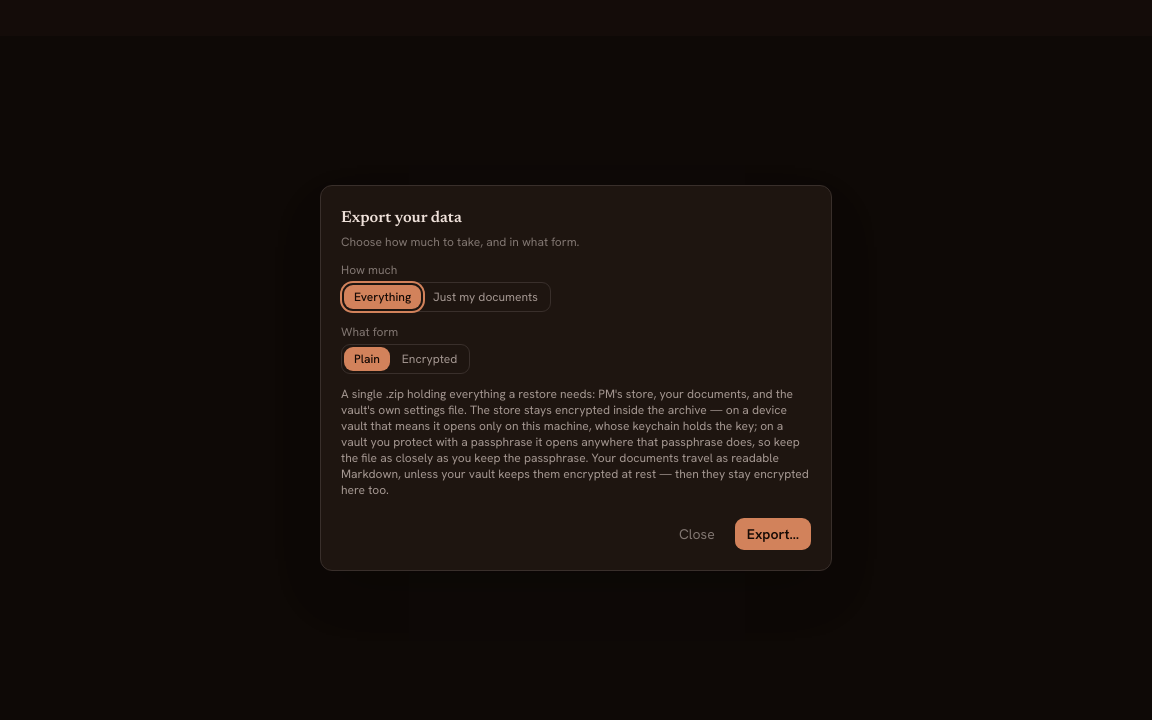
it: the cell that does not exist › clears the refusal as soon as the choice becomes possible again
The width and height of the screenshot is (1152, 720).
Step 1. Click the button "Just my documents" → (486, 297), box x1=423 y1=285 x2=548 y2=309
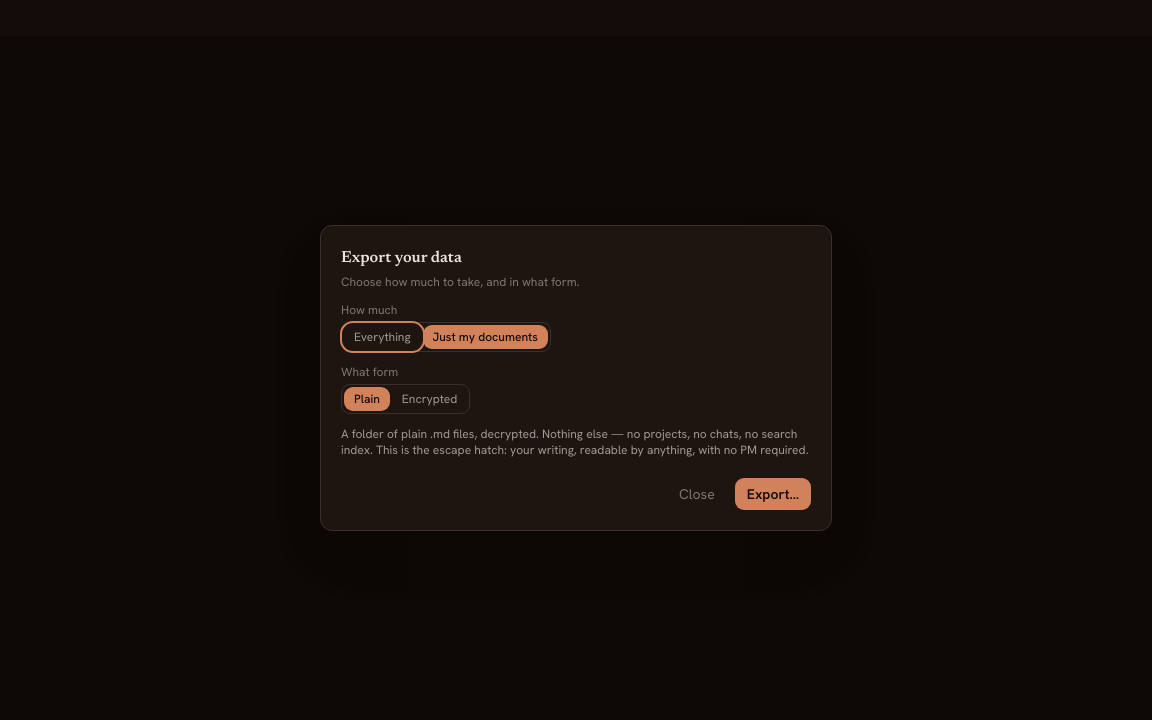
Step 2. Click the button "Encrypted" → (430, 399), box x1=392 y1=387 x2=467 y2=411
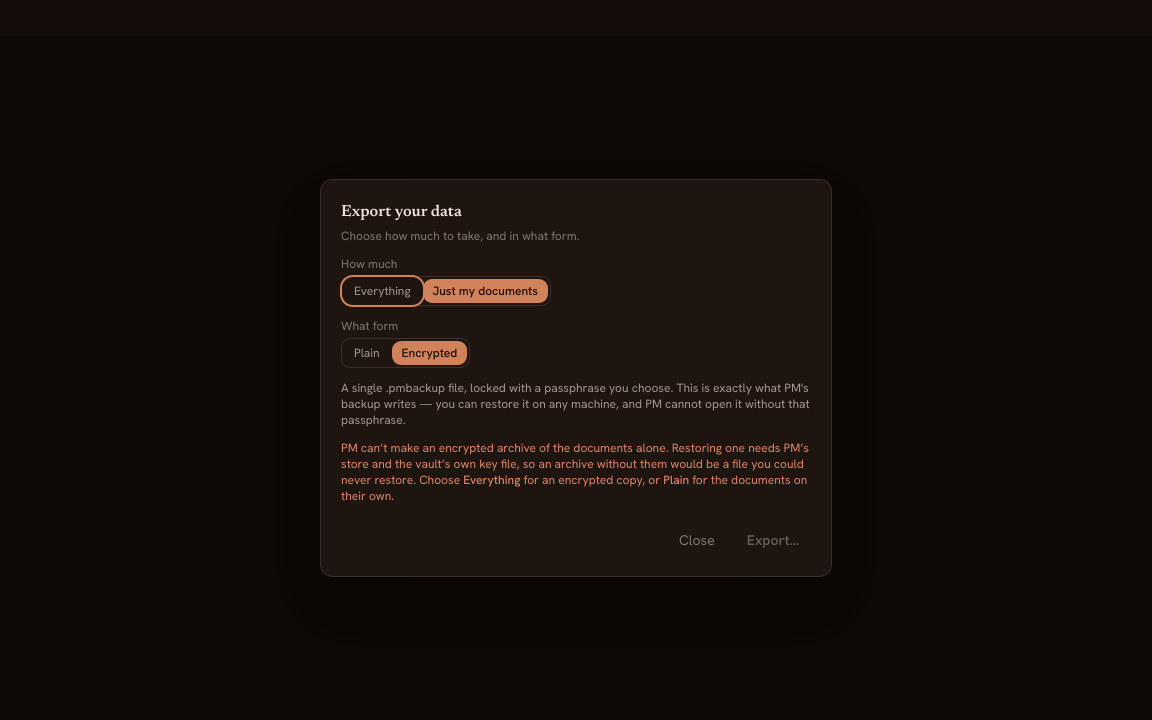
Step 3. Click the button "Everything" → (382, 291), box x1=344 y1=279 x2=421 y2=303
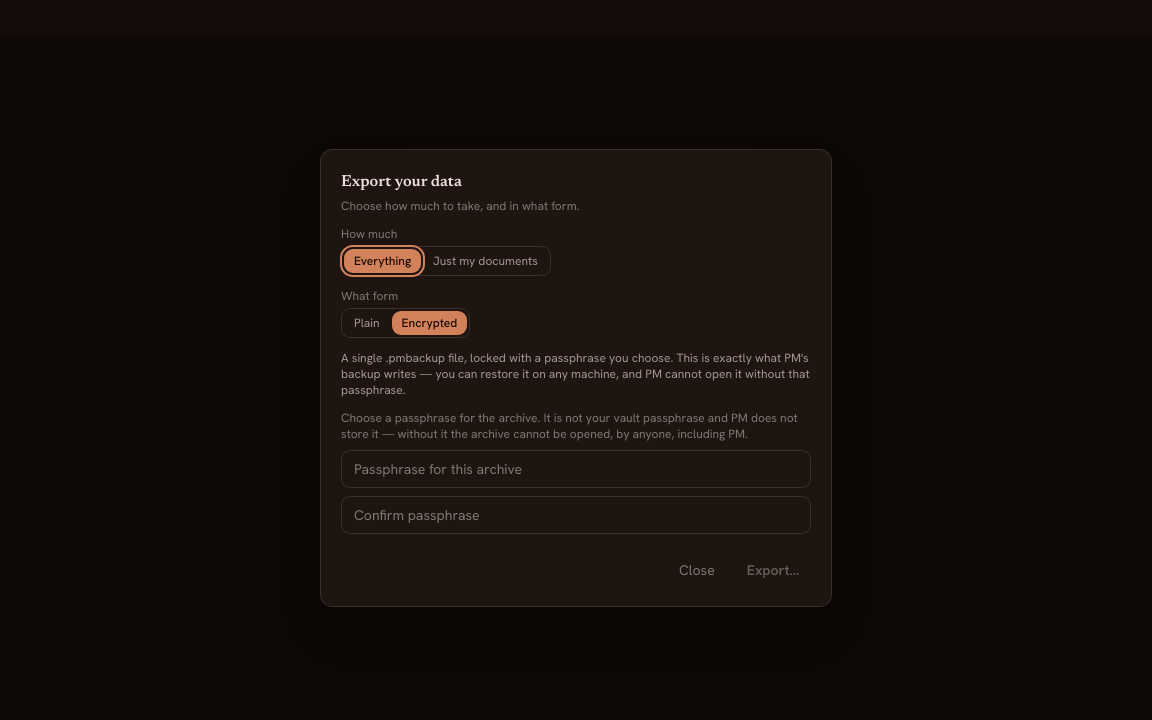
expect the message is gone: met
